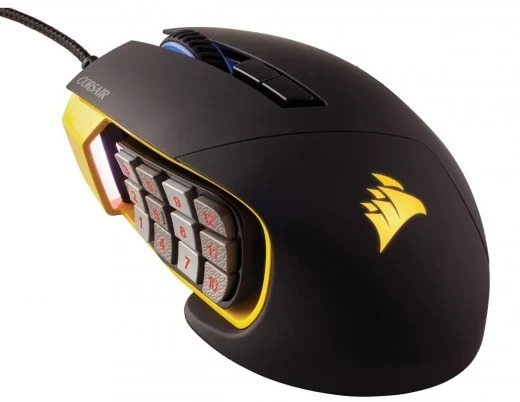mouse: (54, 19, 498, 397)
